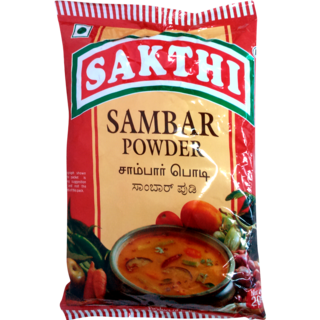VEG: (71, 23, 92, 38)
